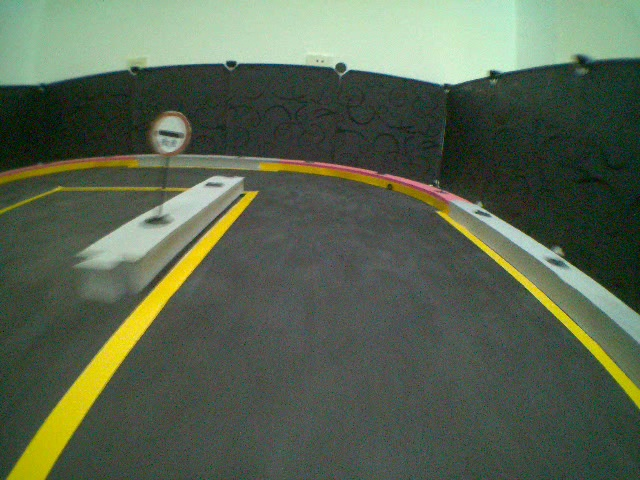Check: (149, 110, 192, 157)
